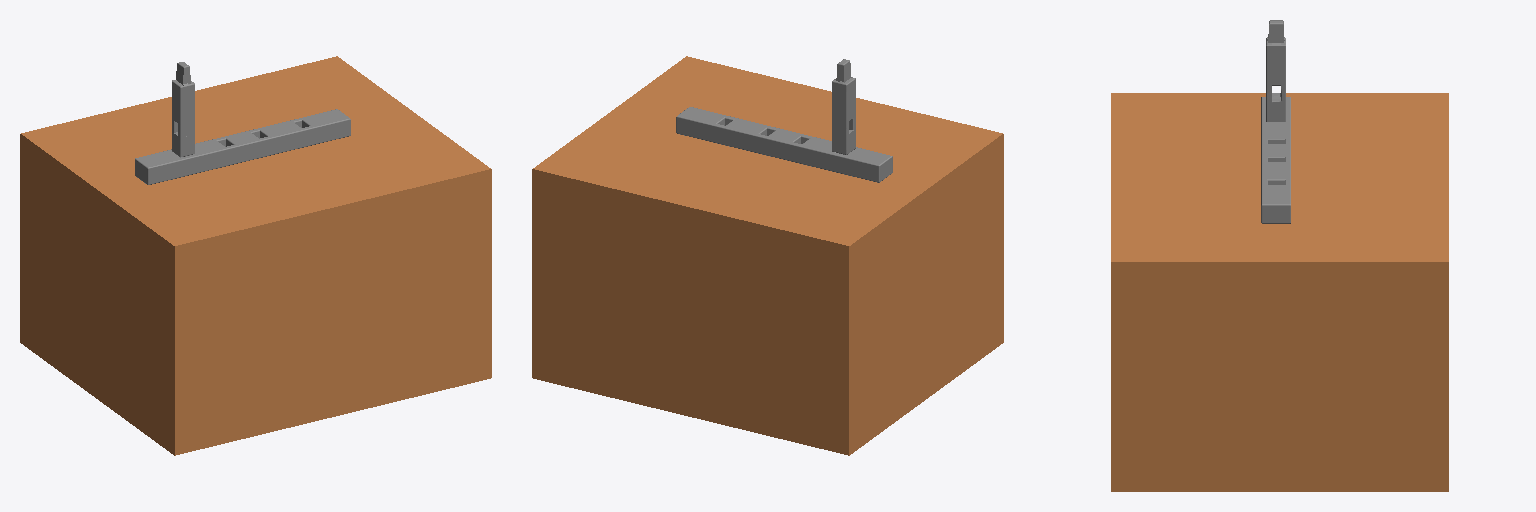
URDF robot description (table_beam_2x_0_scene_0088):
<?xml version="1.0"?>
<robot name="table_beam_2x_0_scene_0088">
  <link name="box">
    <visual>
      <material name="wood"><color rgba="0.82 0.56 0.35 1.0"/></material>
      <origin xyz="0 0 0"/>
      <geometry><box size="0.475 0.4 0.3"/></geometry>
    </visual>
    <collision>
      <origin xyz="0 0 0"/>
      <geometry><box size="0.475 0.4 0.3"/></geometry>
    </collision>
    <inertial>
      <mass value="500"/>
      <friction value="1.0"/>
      <inertia ixx="1000.0" ixy="0.0" ixz="0.0" iyy="1000.0" iyz="0.0" izz="1000.0"/>
    </inertial>
  </link>
  <link name="part_6_canonical">
    <visual>
      <origin xyz="0 0 0" rpy="0 0 0"/>
      <geometry><mesh filename="../../6/6_canonical.obj" scale="1 1 1"/></geometry>
      <material name="placed_0"><color rgba="0.6 0.6 0.6 1.0"/></material>
    </visual>
    <collision>
      <origin xyz="0 0 0" rpy="0 0 0"/>
      <geometry><mesh filename="../../6/6_canonical.obj" scale="1 1 1"/></geometry>
    </collision>
  </link>
  <joint name="part_6_canonical_joint" type="fixed">
    <parent link="box"/>
    <child link="part_6_canonical"/>
    <origin xyz="-0.022268 -0.004302 0.162666" rpy="0.000000 0.000000 0.000000"/>
  </joint>
  <link name="part_2_hull_0">
    <visual>
      <origin xyz="0 0 0" rpy="0 0 0"/>
      <geometry><mesh filename="../../2/coacd/decomp_0.obj" scale="1 1 1"/></geometry>
      <material name="placed_1"><color rgba="0.6 0.6 0.6 1.0"/></material>
    </visual>
    <collision>
      <origin xyz="0 0 0" rpy="0 0 0"/>
      <geometry><mesh filename="../../2/coacd/decomp_0.obj" scale="1 1 1"/></geometry>
    </collision>
  </link>
  <joint name="part_2_hull_0_joint" type="fixed">
    <parent link="box"/>
    <child link="part_2_hull_0"/>
    <origin xyz="-0.111194 -0.004302 0.225384" rpy="0.000000 -1.570796 0.000000"/>
  </joint>
  <link name="part_2_hull_1">
    <visual>
      <origin xyz="0 0 0" rpy="0 0 0"/>
      <geometry><mesh filename="../../2/coacd/decomp_1.obj" scale="1 1 1"/></geometry>
      <material name="placed_2"><color rgba="0.6 0.6 0.6 1.0"/></material>
    </visual>
    <collision>
      <origin xyz="0 0 0" rpy="0 0 0"/>
      <geometry><mesh filename="../../2/coacd/decomp_1.obj" scale="1 1 1"/></geometry>
    </collision>
  </link>
  <joint name="part_2_hull_1_joint" type="fixed">
    <parent link="box"/>
    <child link="part_2_hull_1"/>
    <origin xyz="-0.111194 -0.004302 0.225384" rpy="0.000000 -1.570796 0.000000"/>
  </joint>
  <link name="part_2_hull_2">
    <visual>
      <origin xyz="0 0 0" rpy="0 0 0"/>
      <geometry><mesh filename="../../2/coacd/decomp_10.obj" scale="1 1 1"/></geometry>
      <material name="placed_3"><color rgba="0.6 0.6 0.6 1.0"/></material>
    </visual>
    <collision>
      <origin xyz="0 0 0" rpy="0 0 0"/>
      <geometry><mesh filename="../../2/coacd/decomp_10.obj" scale="1 1 1"/></geometry>
    </collision>
  </link>
  <joint name="part_2_hull_2_joint" type="fixed">
    <parent link="box"/>
    <child link="part_2_hull_2"/>
    <origin xyz="-0.111194 -0.004302 0.225384" rpy="0.000000 -1.570796 0.000000"/>
  </joint>
  <link name="part_2_hull_3">
    <visual>
      <origin xyz="0 0 0" rpy="0 0 0"/>
      <geometry><mesh filename="../../2/coacd/decomp_11.obj" scale="1 1 1"/></geometry>
      <material name="placed_4"><color rgba="0.6 0.6 0.6 1.0"/></material>
    </visual>
    <collision>
      <origin xyz="0 0 0" rpy="0 0 0"/>
      <geometry><mesh filename="../../2/coacd/decomp_11.obj" scale="1 1 1"/></geometry>
    </collision>
  </link>
  <joint name="part_2_hull_3_joint" type="fixed">
    <parent link="box"/>
    <child link="part_2_hull_3"/>
    <origin xyz="-0.111194 -0.004302 0.225384" rpy="0.000000 -1.570796 0.000000"/>
  </joint>
  <link name="part_2_hull_4">
    <visual>
      <origin xyz="0 0 0" rpy="0 0 0"/>
      <geometry><mesh filename="../../2/coacd/decomp_12.obj" scale="1 1 1"/></geometry>
      <material name="placed_5"><color rgba="0.6 0.6 0.6 1.0"/></material>
    </visual>
    <collision>
      <origin xyz="0 0 0" rpy="0 0 0"/>
      <geometry><mesh filename="../../2/coacd/decomp_12.obj" scale="1 1 1"/></geometry>
    </collision>
  </link>
  <joint name="part_2_hull_4_joint" type="fixed">
    <parent link="box"/>
    <child link="part_2_hull_4"/>
    <origin xyz="-0.111194 -0.004302 0.225384" rpy="0.000000 -1.570796 0.000000"/>
  </joint>
  <link name="part_2_hull_5">
    <visual>
      <origin xyz="0 0 0" rpy="0 0 0"/>
      <geometry><mesh filename="../../2/coacd/decomp_13.obj" scale="1 1 1"/></geometry>
      <material name="placed_6"><color rgba="0.6 0.6 0.6 1.0"/></material>
    </visual>
    <collision>
      <origin xyz="0 0 0" rpy="0 0 0"/>
      <geometry><mesh filename="../../2/coacd/decomp_13.obj" scale="1 1 1"/></geometry>
    </collision>
  </link>
  <joint name="part_2_hull_5_joint" type="fixed">
    <parent link="box"/>
    <child link="part_2_hull_5"/>
    <origin xyz="-0.111194 -0.004302 0.225384" rpy="0.000000 -1.570796 0.000000"/>
  </joint>
  <link name="part_2_hull_6">
    <visual>
      <origin xyz="0 0 0" rpy="0 0 0"/>
      <geometry><mesh filename="../../2/coacd/decomp_14.obj" scale="1 1 1"/></geometry>
      <material name="placed_7"><color rgba="0.6 0.6 0.6 1.0"/></material>
    </visual>
    <collision>
      <origin xyz="0 0 0" rpy="0 0 0"/>
      <geometry><mesh filename="../../2/coacd/decomp_14.obj" scale="1 1 1"/></geometry>
    </collision>
  </link>
  <joint name="part_2_hull_6_joint" type="fixed">
    <parent link="box"/>
    <child link="part_2_hull_6"/>
    <origin xyz="-0.111194 -0.004302 0.225384" rpy="0.000000 -1.570796 0.000000"/>
  </joint>
  <link name="part_2_hull_7">
    <visual>
      <origin xyz="0 0 0" rpy="0 0 0"/>
      <geometry><mesh filename="../../2/coacd/decomp_15.obj" scale="1 1 1"/></geometry>
      <material name="placed_8"><color rgba="0.6 0.6 0.6 1.0"/></material>
    </visual>
    <collision>
      <origin xyz="0 0 0" rpy="0 0 0"/>
      <geometry><mesh filename="../../2/coacd/decomp_15.obj" scale="1 1 1"/></geometry>
    </collision>
  </link>
  <joint name="part_2_hull_7_joint" type="fixed">
    <parent link="box"/>
    <child link="part_2_hull_7"/>
    <origin xyz="-0.111194 -0.004302 0.225384" rpy="0.000000 -1.570796 0.000000"/>
  </joint>
  <link name="part_2_hull_8">
    <visual>
      <origin xyz="0 0 0" rpy="0 0 0"/>
      <geometry><mesh filename="../../2/coacd/decomp_2.obj" scale="1 1 1"/></geometry>
      <material name="placed_9"><color rgba="0.6 0.6 0.6 1.0"/></material>
    </visual>
    <collision>
      <origin xyz="0 0 0" rpy="0 0 0"/>
      <geometry><mesh filename="../../2/coacd/decomp_2.obj" scale="1 1 1"/></geometry>
    </collision>
  </link>
  <joint name="part_2_hull_8_joint" type="fixed">
    <parent link="box"/>
    <child link="part_2_hull_8"/>
    <origin xyz="-0.111194 -0.004302 0.225384" rpy="0.000000 -1.570796 0.000000"/>
  </joint>
  <link name="part_2_hull_9">
    <visual>
      <origin xyz="0 0 0" rpy="0 0 0"/>
      <geometry><mesh filename="../../2/coacd/decomp_3.obj" scale="1 1 1"/></geometry>
      <material name="placed_10"><color rgba="0.6 0.6 0.6 1.0"/></material>
    </visual>
    <collision>
      <origin xyz="0 0 0" rpy="0 0 0"/>
      <geometry><mesh filename="../../2/coacd/decomp_3.obj" scale="1 1 1"/></geometry>
    </collision>
  </link>
  <joint name="part_2_hull_9_joint" type="fixed">
    <parent link="box"/>
    <child link="part_2_hull_9"/>
    <origin xyz="-0.111194 -0.004302 0.225384" rpy="0.000000 -1.570796 0.000000"/>
  </joint>
  <link name="part_2_hull_10">
    <visual>
      <origin xyz="0 0 0" rpy="0 0 0"/>
      <geometry><mesh filename="../../2/coacd/decomp_4.obj" scale="1 1 1"/></geometry>
      <material name="placed_11"><color rgba="0.6 0.6 0.6 1.0"/></material>
    </visual>
    <collision>
      <origin xyz="0 0 0" rpy="0 0 0"/>
      <geometry><mesh filename="../../2/coacd/decomp_4.obj" scale="1 1 1"/></geometry>
    </collision>
  </link>
  <joint name="part_2_hull_10_joint" type="fixed">
    <parent link="box"/>
    <child link="part_2_hull_10"/>
    <origin xyz="-0.111194 -0.004302 0.225384" rpy="0.000000 -1.570796 0.000000"/>
  </joint>
  <link name="part_2_hull_11">
    <visual>
      <origin xyz="0 0 0" rpy="0 0 0"/>
      <geometry><mesh filename="../../2/coacd/decomp_5.obj" scale="1 1 1"/></geometry>
      <material name="placed_12"><color rgba="0.6 0.6 0.6 1.0"/></material>
    </visual>
    <collision>
      <origin xyz="0 0 0" rpy="0 0 0"/>
      <geometry><mesh filename="../../2/coacd/decomp_5.obj" scale="1 1 1"/></geometry>
    </collision>
  </link>
  <joint name="part_2_hull_11_joint" type="fixed">
    <parent link="box"/>
    <child link="part_2_hull_11"/>
    <origin xyz="-0.111194 -0.004302 0.225384" rpy="0.000000 -1.570796 0.000000"/>
  </joint>
  <link name="part_2_hull_12">
    <visual>
      <origin xyz="0 0 0" rpy="0 0 0"/>
      <geometry><mesh filename="../../2/coacd/decomp_6.obj" scale="1 1 1"/></geometry>
      <material name="placed_13"><color rgba="0.6 0.6 0.6 1.0"/></material>
    </visual>
    <collision>
      <origin xyz="0 0 0" rpy="0 0 0"/>
      <geometry><mesh filename="../../2/coacd/decomp_6.obj" scale="1 1 1"/></geometry>
    </collision>
  </link>
  <joint name="part_2_hull_12_joint" type="fixed">
    <parent link="box"/>
    <child link="part_2_hull_12"/>
    <origin xyz="-0.111194 -0.004302 0.225384" rpy="0.000000 -1.570796 0.000000"/>
  </joint>
  <link name="part_2_hull_13">
    <visual>
      <origin xyz="0 0 0" rpy="0 0 0"/>
      <geometry><mesh filename="../../2/coacd/decomp_7.obj" scale="1 1 1"/></geometry>
      <material name="placed_14"><color rgba="0.6 0.6 0.6 1.0"/></material>
    </visual>
    <collision>
      <origin xyz="0 0 0" rpy="0 0 0"/>
      <geometry><mesh filename="../../2/coacd/decomp_7.obj" scale="1 1 1"/></geometry>
    </collision>
  </link>
  <joint name="part_2_hull_13_joint" type="fixed">
    <parent link="box"/>
    <child link="part_2_hull_13"/>
    <origin xyz="-0.111194 -0.004302 0.225384" rpy="0.000000 -1.570796 0.000000"/>
  </joint>
  <link name="part_2_hull_14">
    <visual>
      <origin xyz="0 0 0" rpy="0 0 0"/>
      <geometry><mesh filename="../../2/coacd/decomp_8.obj" scale="1 1 1"/></geometry>
      <material name="placed_15"><color rgba="0.6 0.6 0.6 1.0"/></material>
    </visual>
    <collision>
      <origin xyz="0 0 0" rpy="0 0 0"/>
      <geometry><mesh filename="../../2/coacd/decomp_8.obj" scale="1 1 1"/></geometry>
    </collision>
  </link>
  <joint name="part_2_hull_14_joint" type="fixed">
    <parent link="box"/>
    <child link="part_2_hull_14"/>
    <origin xyz="-0.111194 -0.004302 0.225384" rpy="0.000000 -1.570796 0.000000"/>
  </joint>
  <link name="part_2_hull_15">
    <visual>
      <origin xyz="0 0 0" rpy="0 0 0"/>
      <geometry><mesh filename="../../2/coacd/decomp_9.obj" scale="1 1 1"/></geometry>
      <material name="placed_16"><color rgba="0.6 0.6 0.6 1.0"/></material>
    </visual>
    <collision>
      <origin xyz="0 0 0" rpy="0 0 0"/>
      <geometry><mesh filename="../../2/coacd/decomp_9.obj" scale="1 1 1"/></geometry>
    </collision>
  </link>
  <joint name="part_2_hull_15_joint" type="fixed">
    <parent link="box"/>
    <child link="part_2_hull_15"/>
    <origin xyz="-0.111194 -0.004302 0.225384" rpy="0.000000 -1.570796 0.000000"/>
  </joint>
</robot>

--- Facts derived from the render (not from the file) ---
Views: 3 orthographic renders of the robot side by side, from view 1: azimuth 30°, elevation 25°; view 2: azimuth 150°, elevation 25°; view 3: azimuth 270°, elevation 25°.
Robot: table_beam_2x_0_scene_0088 — 18 links, 17 joints (17 fixed); root link box; default pose: every joint at zero.
Visible links, largest first — view 1: box, part_6_canonical; view 2: box, part_6_canonical, part_2_hull_1; view 3: box, part_6_canonical.
Link boxes in pixels (x1,y1,x2,y2): box: [20, 56, 491, 455]; part_6_canonical: [135, 109, 350, 184]; box: [532, 56, 1003, 455]; part_6_canonical: [676, 107, 892, 182]; part_2_hull_1: [843, 77, 855, 122]; box: [1111, 93, 1448, 491]; part_6_canonical: [1261, 97, 1290, 223].
Size in the robot's own frame: 0.475 by 0.4 by 0.4524 metres.
17 mesh visuals loaded from 17 distinct referenced files (17 OBJ).
